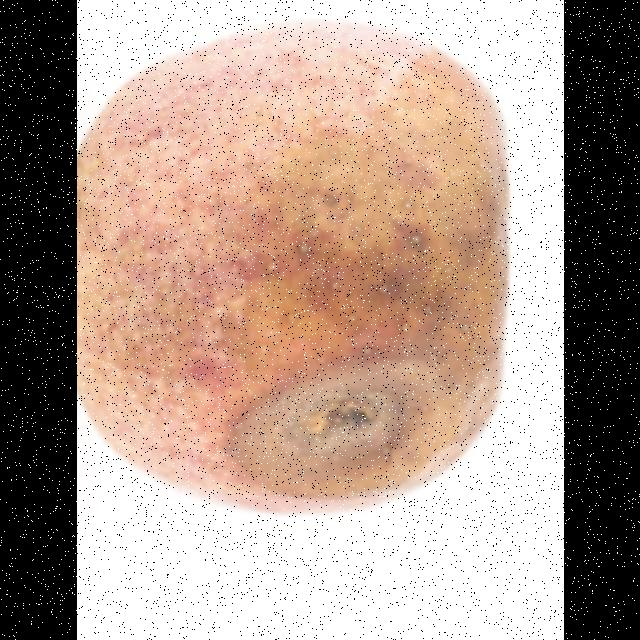Apel Tidak Segar: (76, 24, 516, 512)
